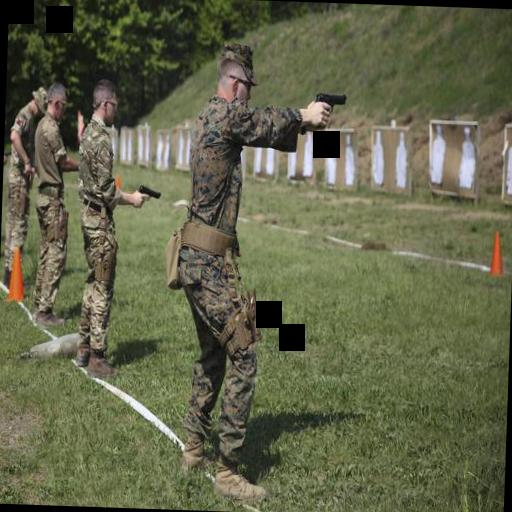Handgun: (310, 86, 348, 124), (132, 176, 160, 208)
